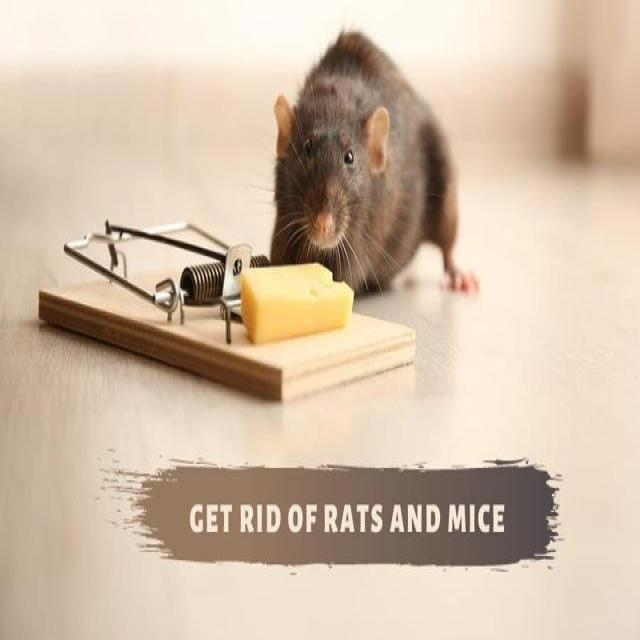rat: (274, 27, 464, 265)
